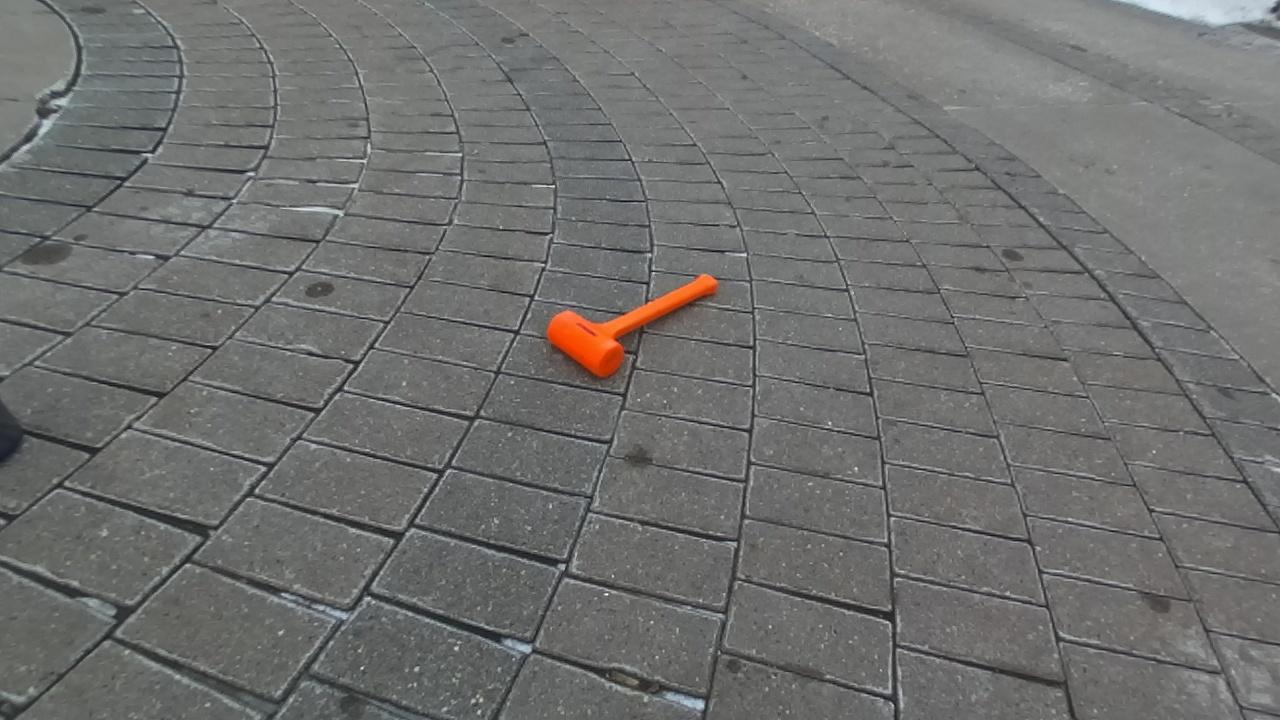mallet: (547, 275, 717, 376)
